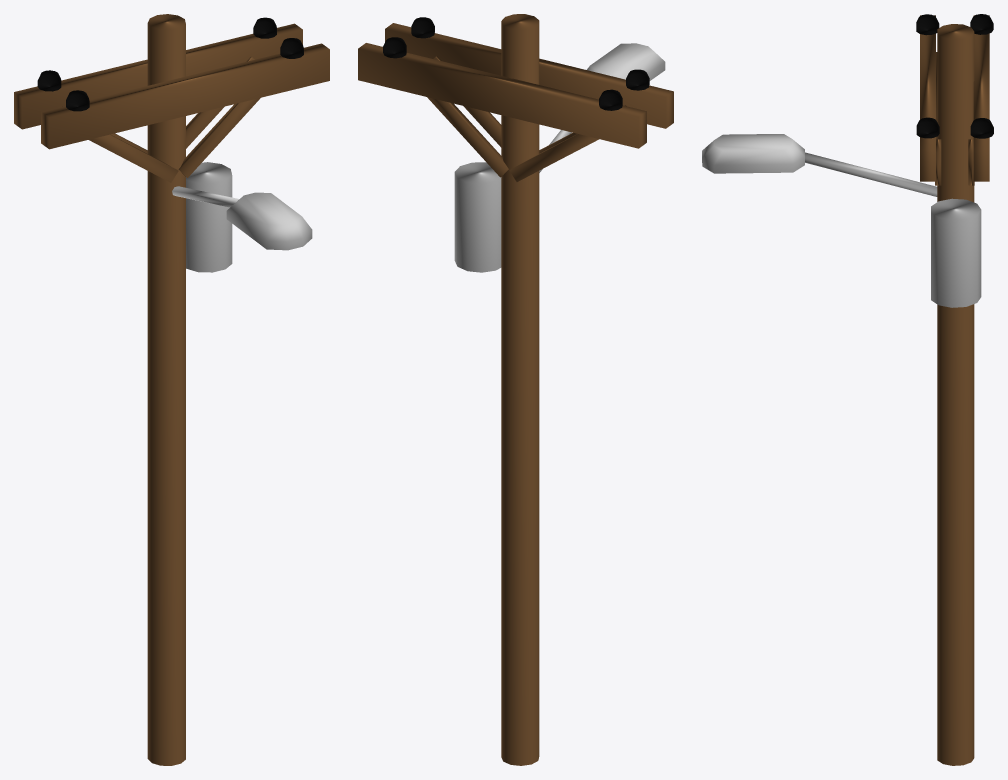
The model's file is TelephonePoleWithLight.fbx.
The picture shows the model from 3 angles, left to right: view 1: azimuth 30°, elevation 25°; view 2: azimuth 150°, elevation 25°; view 3: azimuth 270°, elevation 25°; orthographic projection.
Parts seen in each view (by area): view 1: Telephone Pole w/ Light; view 2: Telephone Pole w/ Light; view 3: Telephone Pole w/ Light.
Part boxes in pixels (x1,y1,x2,y2): Telephone Pole w/ Light: (14,14,329,765); Telephone Pole w/ Light: (358,14,673,765); Telephone Pole w/ Light: (702,14,993,765).
Bounding box in the file's own units: 779 × 1951 × 711.
